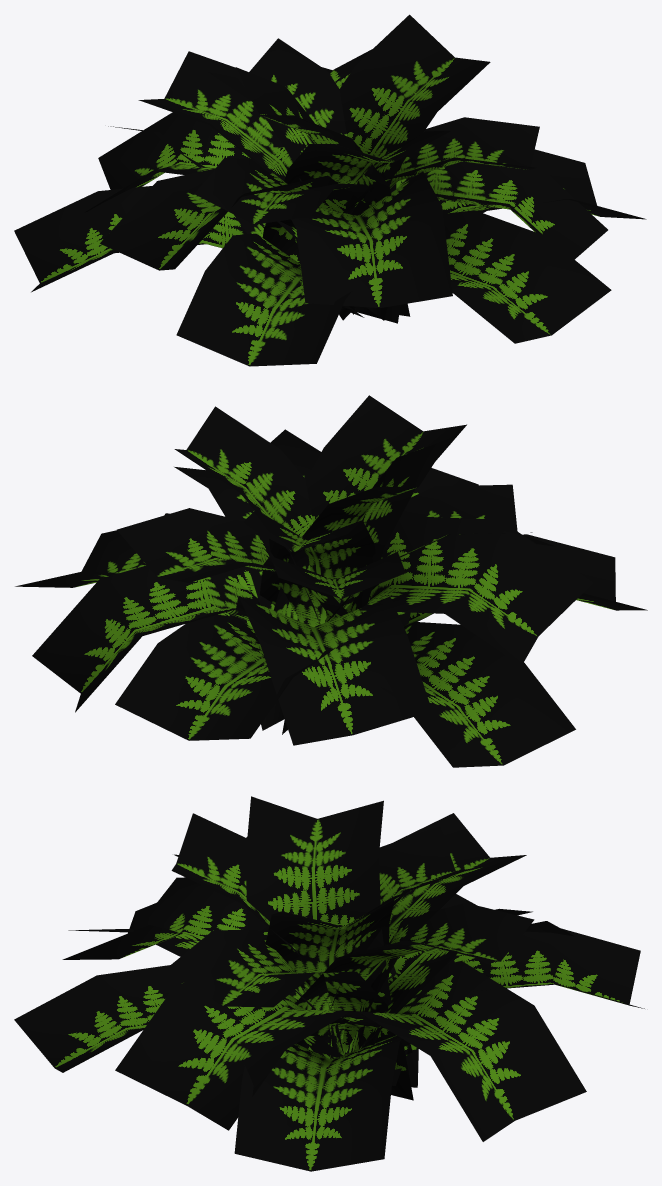
Rendered from foliage_3.gltf.
The picture shows the model from 3 angles, top to bottom: view 1: azimuth 30°, elevation 25°; view 2: azimuth 150°, elevation 25°; view 3: azimuth 270°, elevation 25°; orthographic projection. The views are drawn at different scales.
Visible parts, largest first — view 1: 13; view 2: 13; view 3: 13.
Boxes of the visible parts, left/top/right/bottom form: 13: left=14, top=14, right=646, bottom=366; 13: left=15, top=395, right=647, bottom=767; 13: left=14, top=796, right=644, bottom=1171.
Size of the model in its own units: 0.4273 by 0.188 by 0.4195.
1 material, 1 textured.
